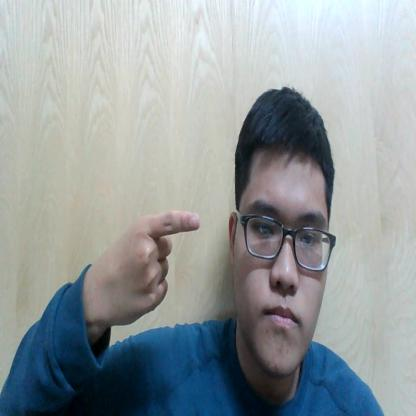left: (99, 202, 203, 331)
